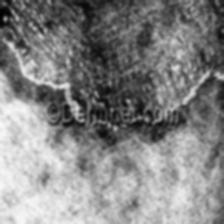Toxin: (0, 0, 224, 104)
